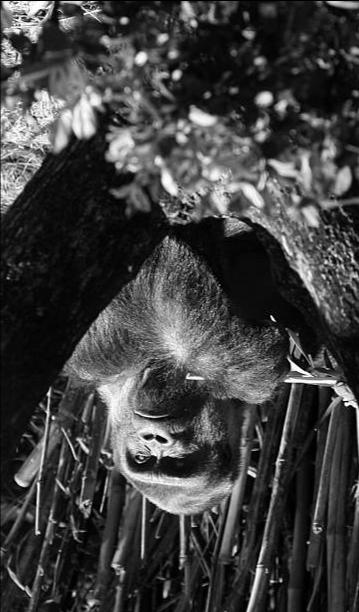gorille_Autres: (0, 195, 304, 542)
